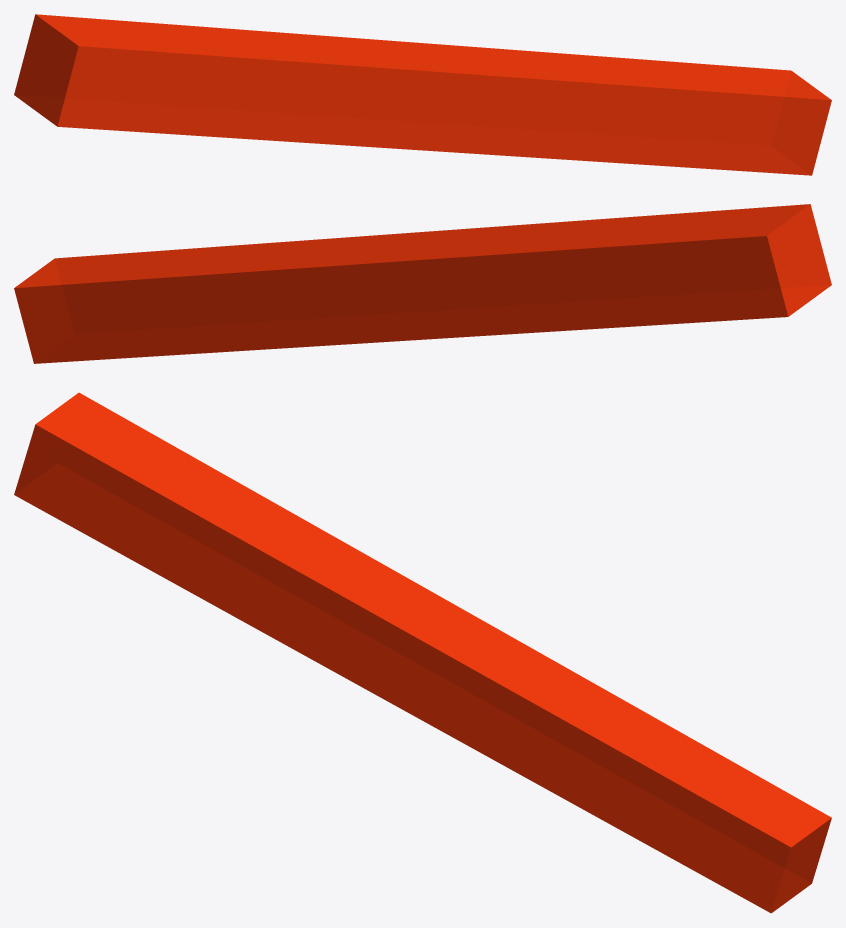
The model's file is Event_421115418_EErechit_0.fbx.
3 views of the same model, one above another, from view 1: azimuth 30°, elevation 25°; view 2: azimuth 150°, elevation 25°; view 3: azimuth 330°, elevation 25° (orthographic).
Parts seen in each view (by area): view 1: Model; view 2: Model; view 3: Model.
Boxes of the visible parts, x1=… form: Model: x1=14, y1=14, x2=831, y2=175; Model: x1=14, y1=204, x2=831, y2=363; Model: x1=14, y1=392, x2=831, y2=913.
Bounding box in the file's own units: 0.7992 × 0.3042 × 0.0777.
